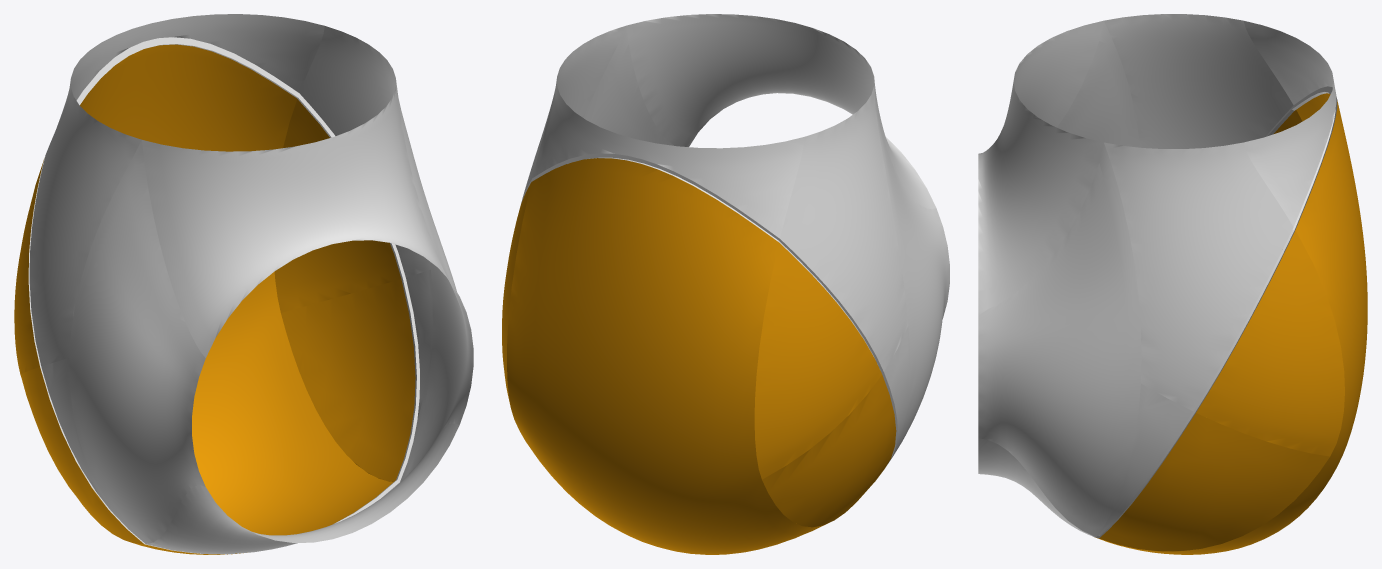
3 renders of one model, left to right at view 1: azimuth 30°, elevation 25°; view 2: azimuth 150°, elevation 25°; view 3: azimuth 270°, elevation 25°, orthographic. The views are drawn at different scales.
Visible parts, largest first — view 1: ShapeIndexedFaceS_148, ShapeIndexedFaceS_031, ShapeIndexedFaceS_218, ShapeIndexedFaceS_132, ShapeIndexedFaceS_092, ShapeIndexedFaceS_112, ShapeIndexedFaceS_263, ShapeIndexedFaceS_107, ShapeIndexedFaceS_127, ShapeIndexedFaceS_137, ShapeIndexedFaceS_117, ShapeIndexedFaceS_143 (+4 smaller); view 2: ShapeIndexedFaceS_148, ShapeIndexedFaceS_031, ShapeIndexedFaceS_092, ShapeIndexedFaceS_143, ShapeIndexedFaceS_112, ShapeIndexedFaceS_137, ShapeIndexedFaceS_218, ShapeIndexedFaceS_107, ShapeIndexedFaceS_117, ShapeIndexedFaceS_097, ShapeIndexedFaceS_127; view 3: ShapeIndexedFaceS_031, ShapeIndexedFaceS_107, ShapeIndexedFaceS_127, ShapeIndexedFaceS_092, ShapeIndexedFaceS_132, ShapeIndexedFaceS_148, ShapeIndexedFaceS_112, ShapeIndexedFaceS_218, ShapeIndexedFaceS_102, ShapeIndexedFaceS_263, ShapeIndexedFaceS_442, ShapeIndexedFaceS_004.
Boxes of the visible parts, x1,y1,x2,y2 form: ShapeIndexedFaceS_148: [80, 44, 393, 554]; ShapeIndexedFaceS_031: [142, 80, 473, 481]; ShapeIndexedFaceS_218: [69, 140, 205, 543]; ShapeIndexedFaceS_132: [281, 279, 415, 481]; ShapeIndexedFaceS_092: [29, 88, 141, 366]; ShapeIndexedFaceS_112: [55, 14, 324, 130]; ShapeIndexedFaceS_263: [146, 423, 459, 554]; ShapeIndexedFaceS_107: [299, 26, 430, 277]; ShapeIndexedFaceS_127: [274, 99, 401, 312]; ShapeIndexedFaceS_137: [20, 367, 143, 544]; ShapeIndexedFaceS_117: [76, 37, 419, 523]; ShapeIndexedFaceS_143: [14, 160, 43, 374]; ShapeIndexedFaceS_148: [507, 158, 829, 554]; ShapeIndexedFaceS_031: [584, 14, 936, 208]; ShapeIndexedFaceS_092: [780, 86, 908, 371]; ShapeIndexedFaceS_143: [754, 242, 881, 479]; ShapeIndexedFaceS_112: [532, 79, 804, 238]; ShapeIndexedFaceS_137: [762, 375, 896, 527]; ShapeIndexedFaceS_218: [874, 89, 949, 461]; ShapeIndexedFaceS_107: [522, 26, 625, 199]; ShapeIndexedFaceS_117: [521, 153, 897, 461]; ShapeIndexedFaceS_097: [884, 326, 910, 459]; ShapeIndexedFaceS_127: [502, 183, 530, 406]; ShapeIndexedFaceS_031: [978, 20, 1141, 537]; ShapeIndexedFaceS_107: [1104, 142, 1293, 411]; ShapeIndexedFaceS_127: [1196, 230, 1344, 456]; ShapeIndexedFaceS_092: [1104, 14, 1293, 148]; ShapeIndexedFaceS_132: [1099, 413, 1329, 551]; ShapeIndexedFaceS_148: [1096, 93, 1367, 554]; ShapeIndexedFaceS_112: [1243, 21, 1336, 226]; ShapeIndexedFaceS_218: [1057, 21, 1139, 147]; ShapeIndexedFaceS_102: [1096, 383, 1192, 536]; ShapeIndexedFaceS_263: [978, 438, 1094, 536]; ShapeIndexedFaceS_442: [1099, 229, 1293, 535]; ShapeIndexedFaceS_004: [1093, 96, 1337, 538].
Bounding box in the file's own units: 130 × 122 × 155.
